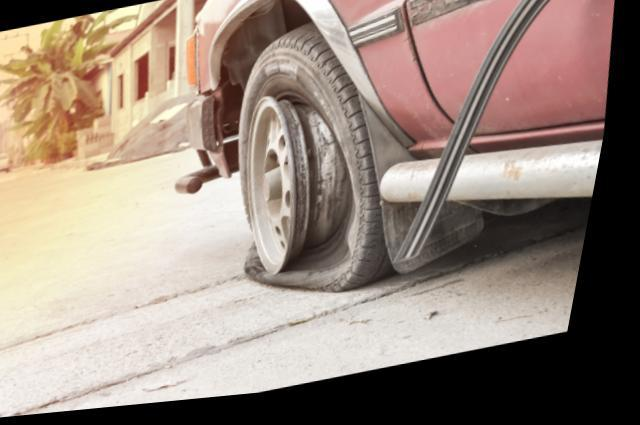tire flat: (244, 28, 404, 301)
